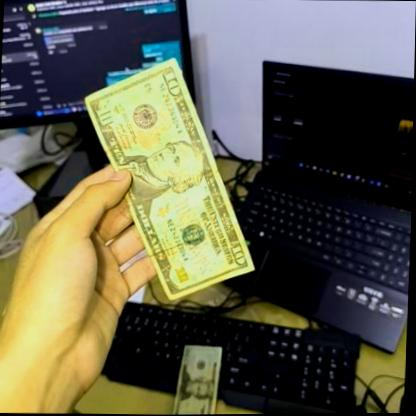dollar_front: (76, 53, 262, 305), (166, 342, 225, 415)
